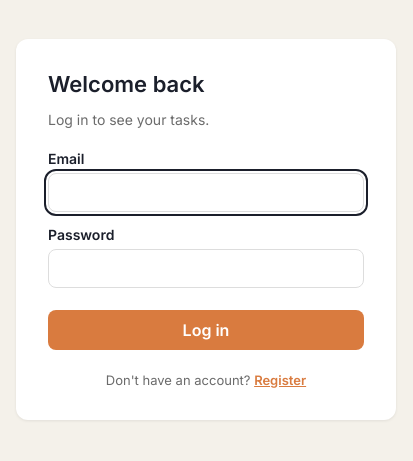
it: Login page › shows an error message when login fails
The width and height of the screenshot is (413, 461).
Step 1. Type "wrong@example.com" into the field labelled "Email" → (206, 192), box 48,172 -> 364,212
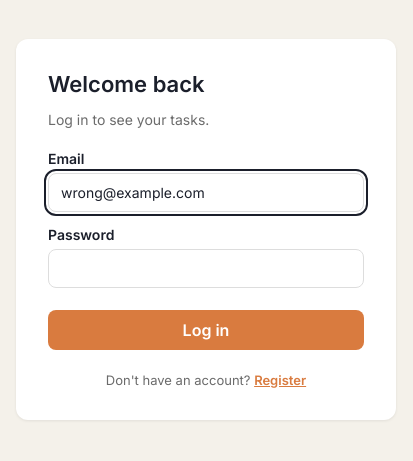
Step 2. Type "wrongpassword" into the password field labelled "Password" → (206, 268), box 48,248 -> 364,288
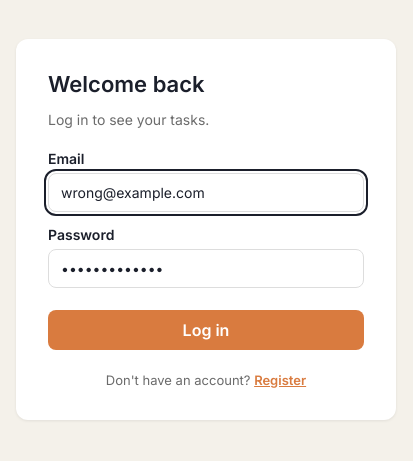
Step 3. Click the button "Log in" → (206, 330), box 48,310 -> 364,350
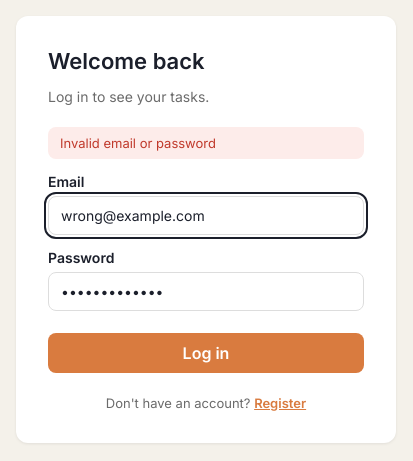
Check: the text "Invalid email or password" is shown, box 48,126 -> 364,158
